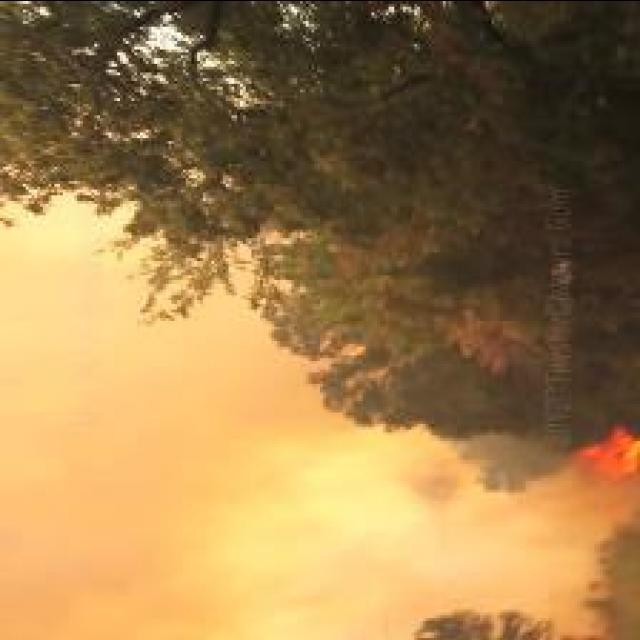Fire: (572, 423, 638, 477)
